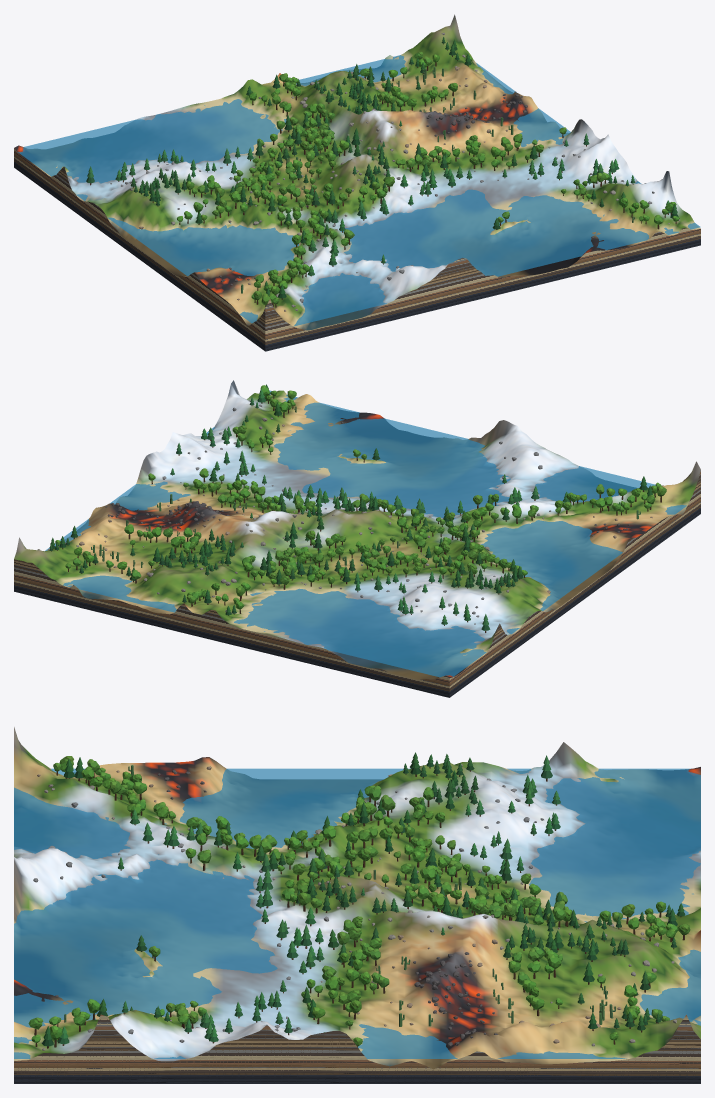
The model's file is maper.glb.
3 views of the same model, one above another, from view 1: azimuth 30°, elevation 25°; view 2: azimuth 150°, elevation 25°; view 3: azimuth 270°, elevation 25° (orthographic). The views are drawn at different scales.
Parts seen in each view (by area): view 1: Terrain_Surface, Water_Plane, Scatter_Props, Terrain_Strata_Walls; view 2: Terrain_Surface, Water_Plane, Scatter_Props, Terrain_Strata_Walls; view 3: Terrain_Surface, Water_Plane, Scatter_Props, Terrain_Strata_Walls.
Boxes of the visible parts, <box> form: Terrain_Surface: <box>14,14,700,330</box>; Water_Plane: <box>18,55,700,326</box>; Scatter_Props: <box>86,32,680,311</box>; Terrain_Strata_Walls: <box>14,148,700,351</box>; Terrain_Surface: <box>14,380,700,679</box>; Water_Plane: <box>44,390,686,677</box>; Scatter_Props: <box>37,384,666,632</box>; Terrain_Strata_Walls: <box>14,470,700,697</box>; Terrain_Surface: <box>14,727,700,1069</box>; Water_Plane: <box>14,768,700,1058</box>; Scatter_Props: <box>28,752,690,1050</box>; Terrain_Strata_Walls: <box>14,1014,700,1083</box>.
Size of the model in its own units: 750 by 85.13 by 750.
Materials: 5 (1 with a texture image).
